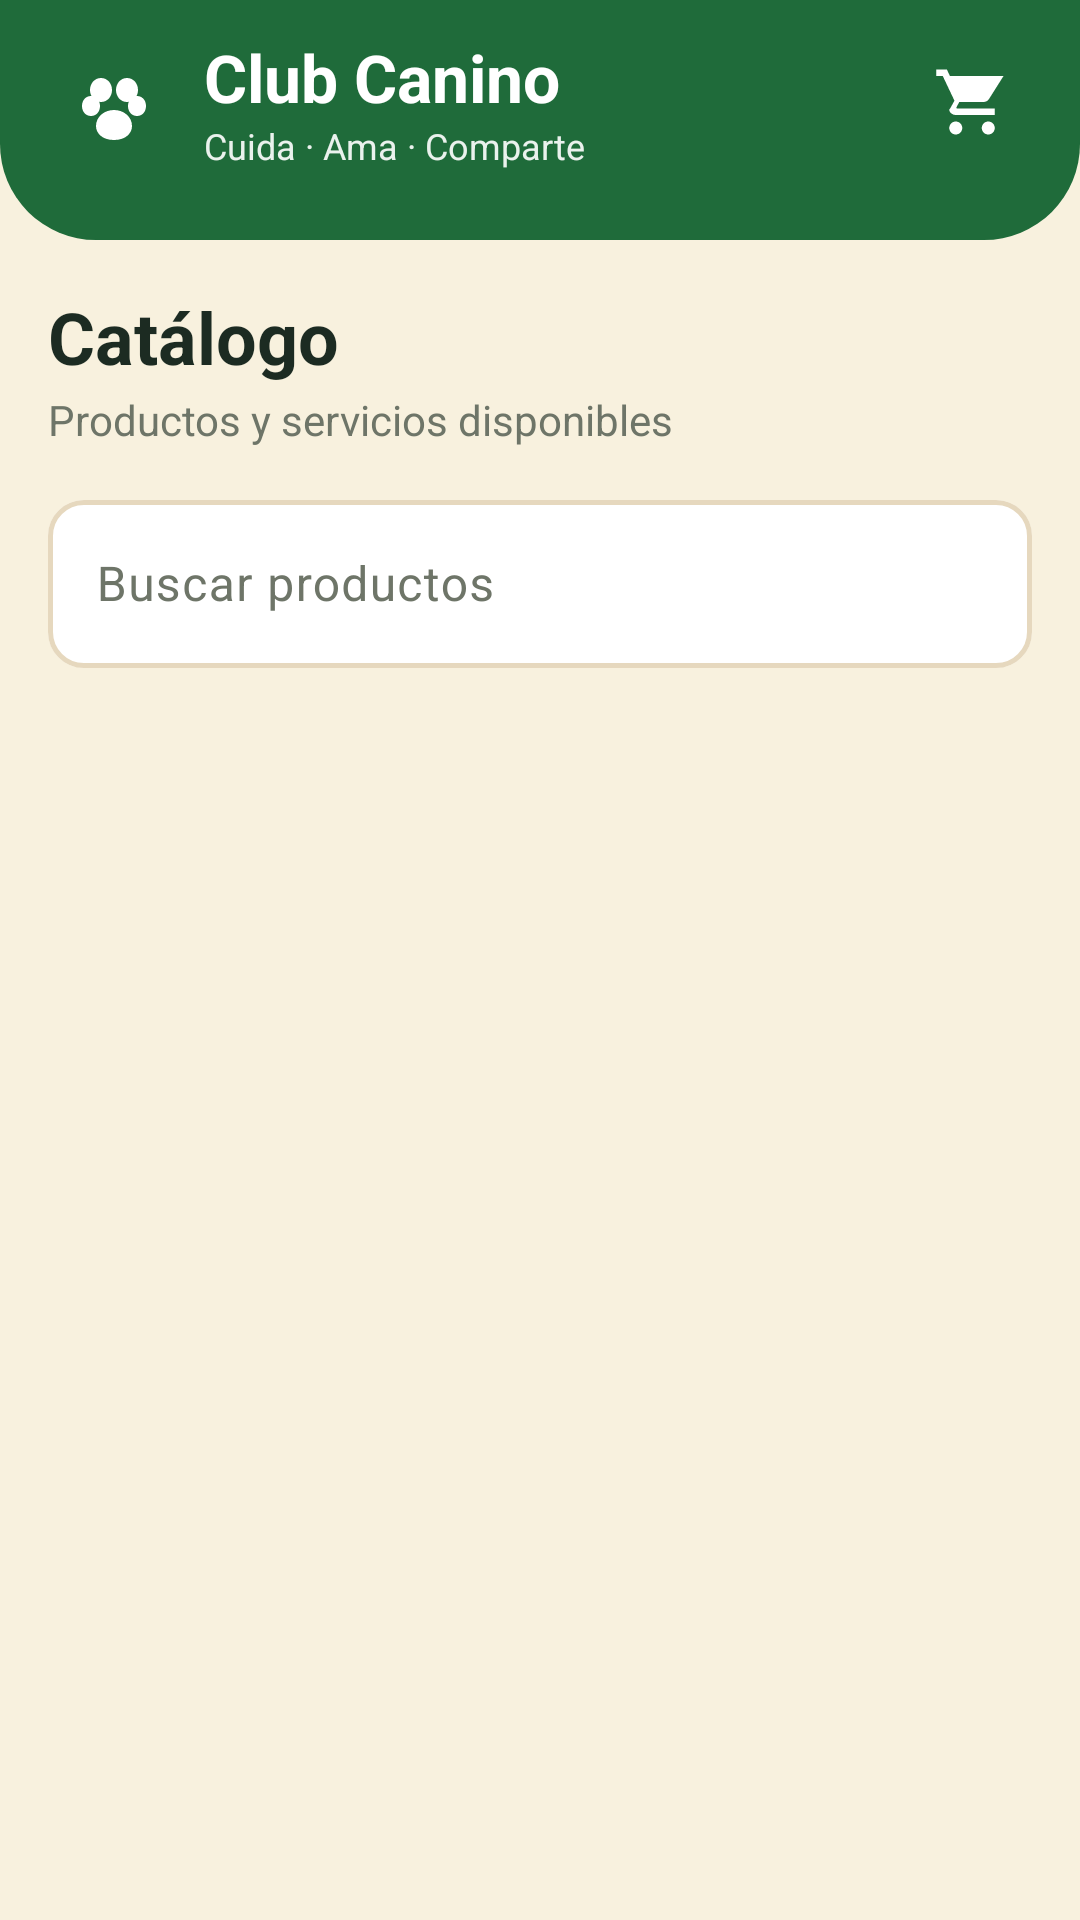

Screen size 1080px×1920px. Icon name, then its center in pixels as (x,y):
Abrir carrito: (970,102)
paw: (114,109)
